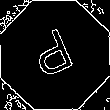P_SE: (28, 24, 82, 86)
